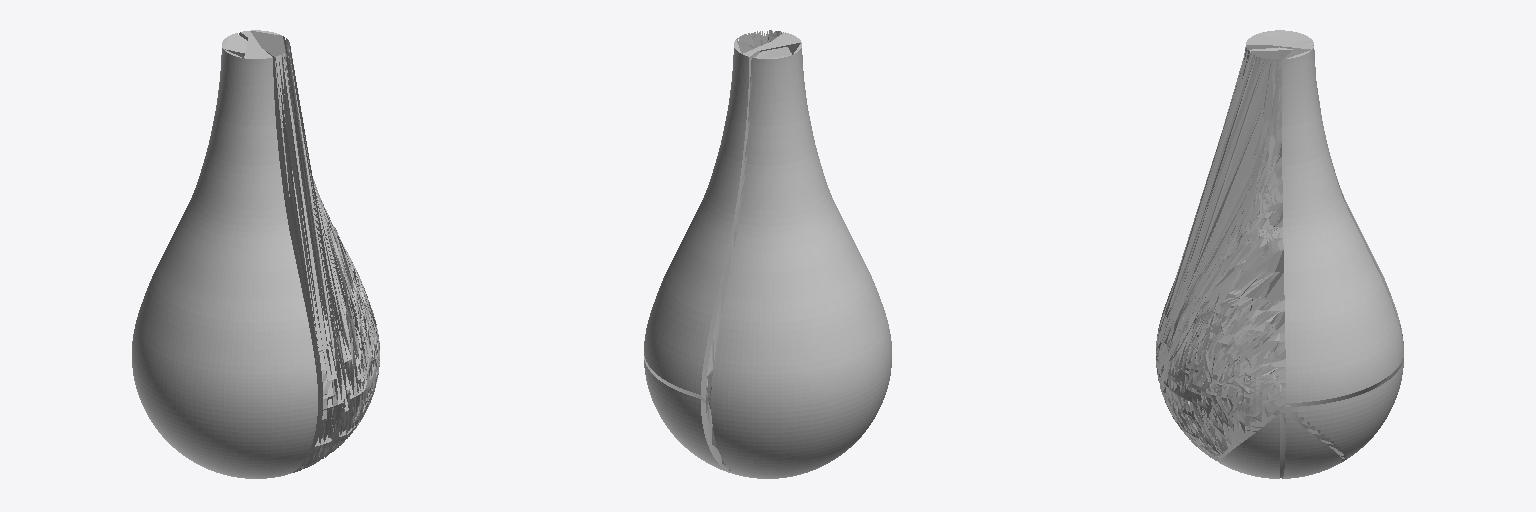
The model's file is 190708_Ether_100type_drop9.obj.
3 renders of one model, left to right at view 1: azimuth 30°, elevation 25°; view 2: azimuth 150°, elevation 25°; view 3: azimuth 270°, elevation 25°, orthographic.
Visible parts, largest first — view 1: object_1; view 2: object_1; view 3: object_1.
Boxes of the visible parts, x1=… form: object_1: x1=132, y1=30, x2=379, y2=478; object_1: x1=644, y1=30, x2=891, y2=478; object_1: x1=1156, y1=30, x2=1403, y2=478.
Bounding box in the file's own units: 36.34 × 68.15 × 36.34.